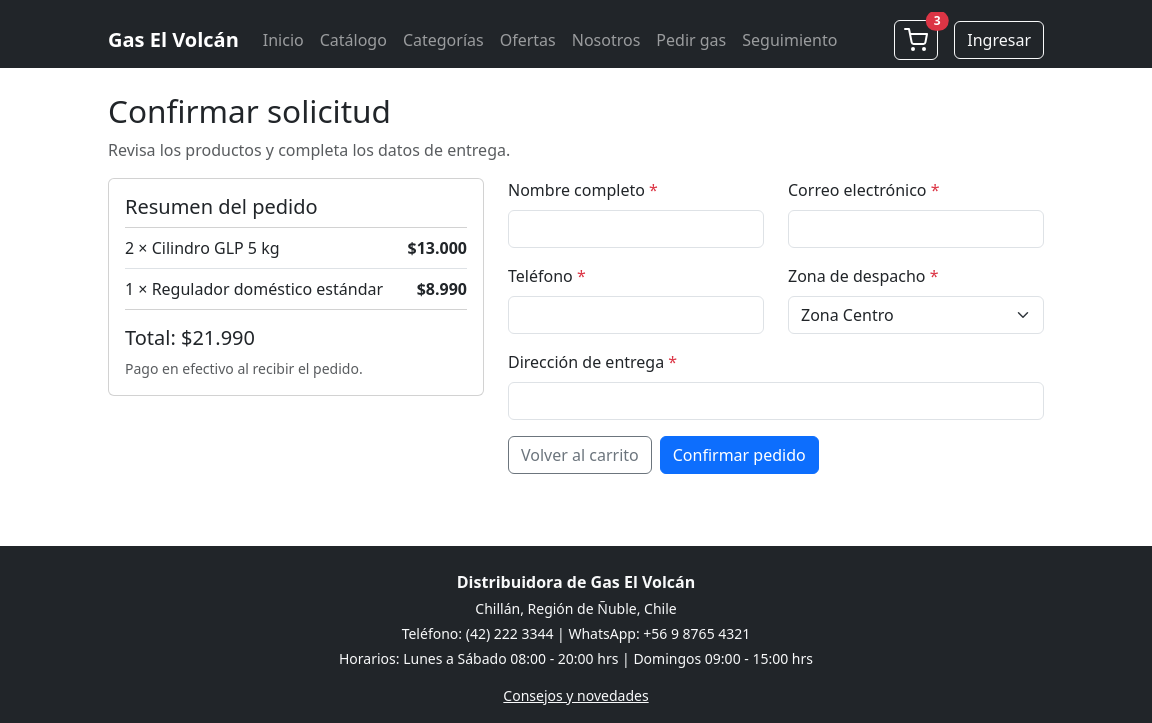
Test: Checkout › valida los datos de entrega y registra un pedido con el carrito completo
Click the button "Confirmar pedido" at [739, 455], box [660, 436, 819, 474]
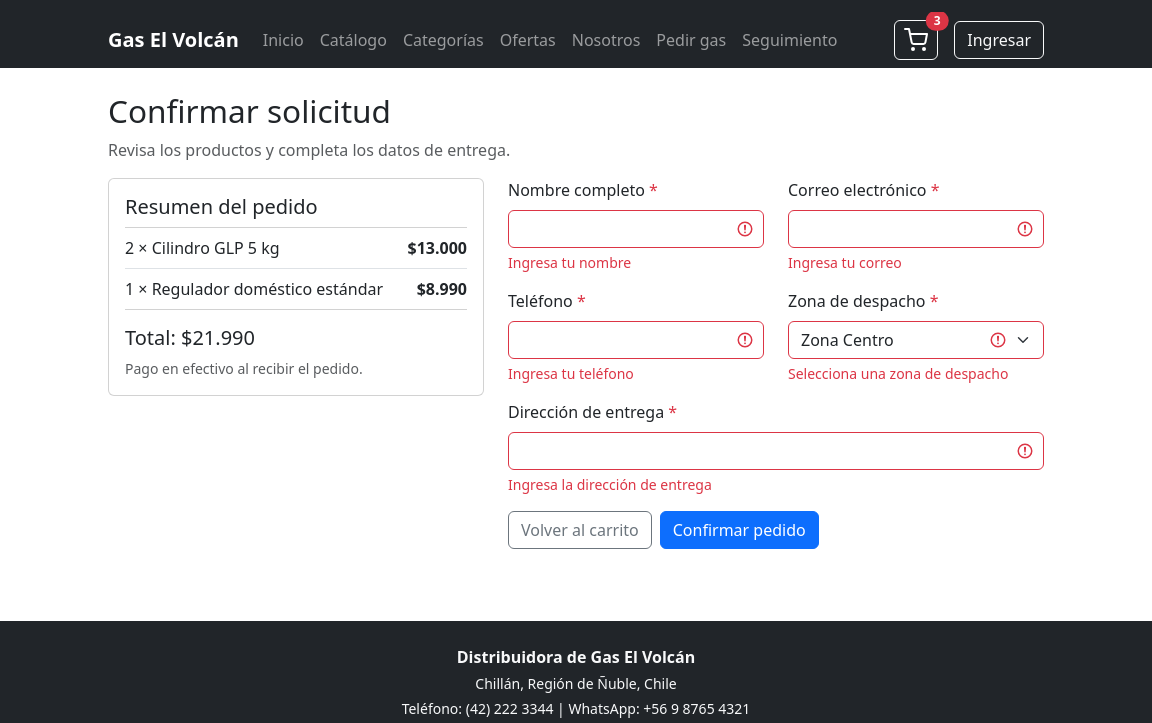
Expected: the text "Ingresa tu nombre" is shown, [508, 253, 631, 272]
Type "Ana Pérez" into the field labelled "Nombre completo *" at [636, 229], box [508, 210, 764, 248]
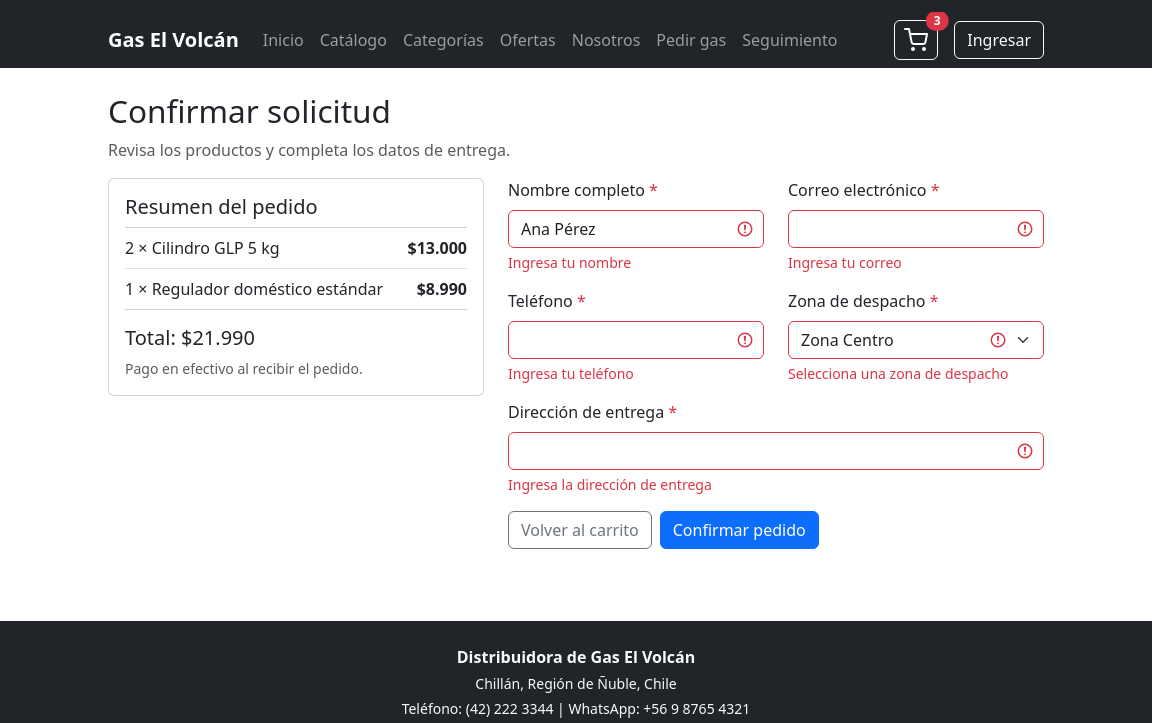
Type "ana@example.cl" into the field labelled "Correo electrónico *" at [916, 229], box [788, 210, 1044, 248]
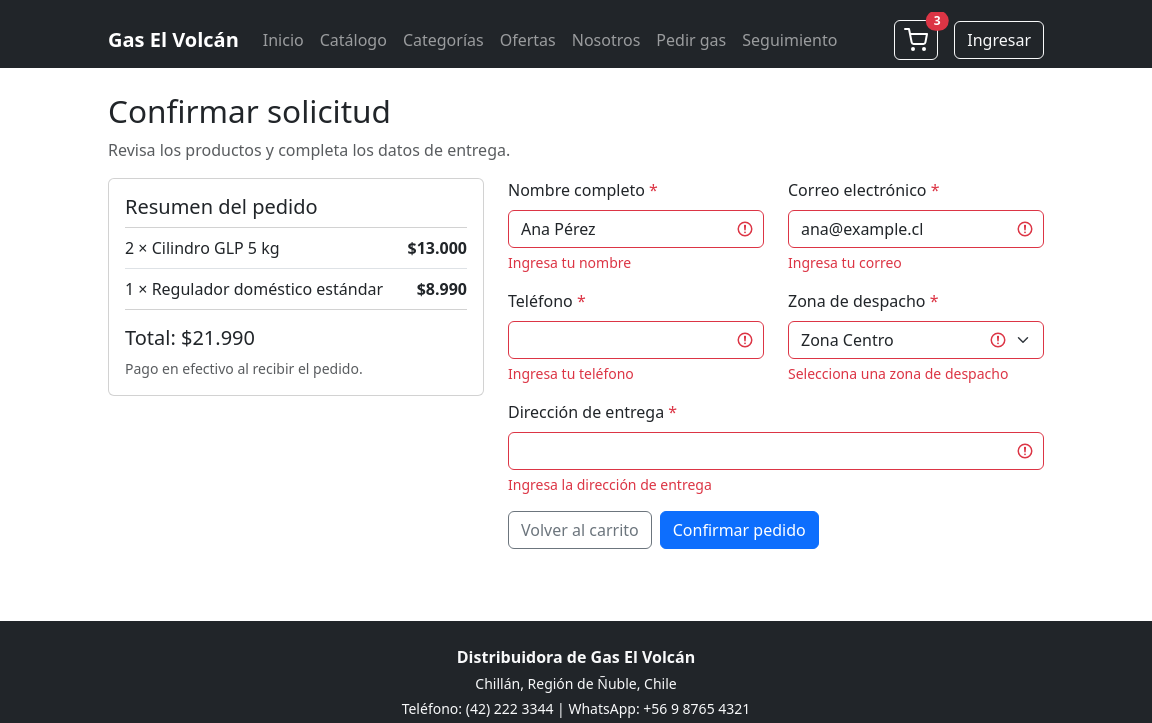
Type "+56912345678" into the field labelled "Teléfono *" at [636, 340], box [508, 321, 764, 359]
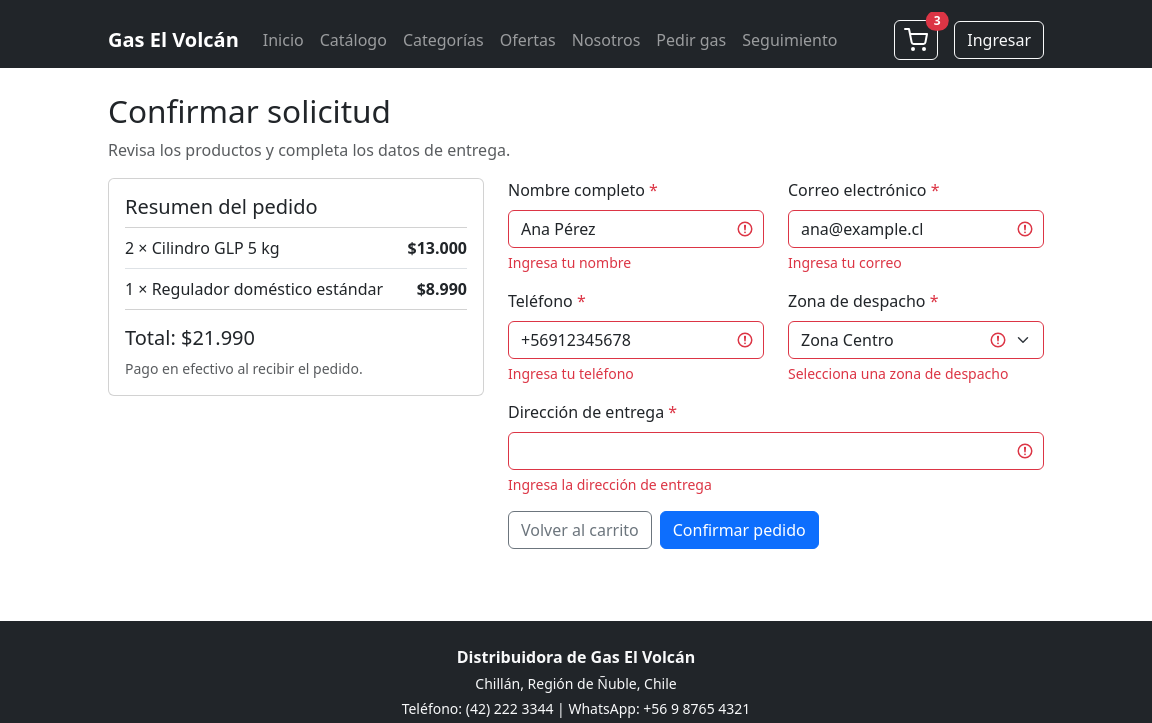
Select "Zona Centro" in the dropdown labelled "Zona de despacho *" at [916, 340], box [788, 321, 1044, 359]
Type "Av. Libertad 123, Chillán" into the field labelled "Dirección de entrega *" at [776, 451], box [508, 432, 1044, 470]
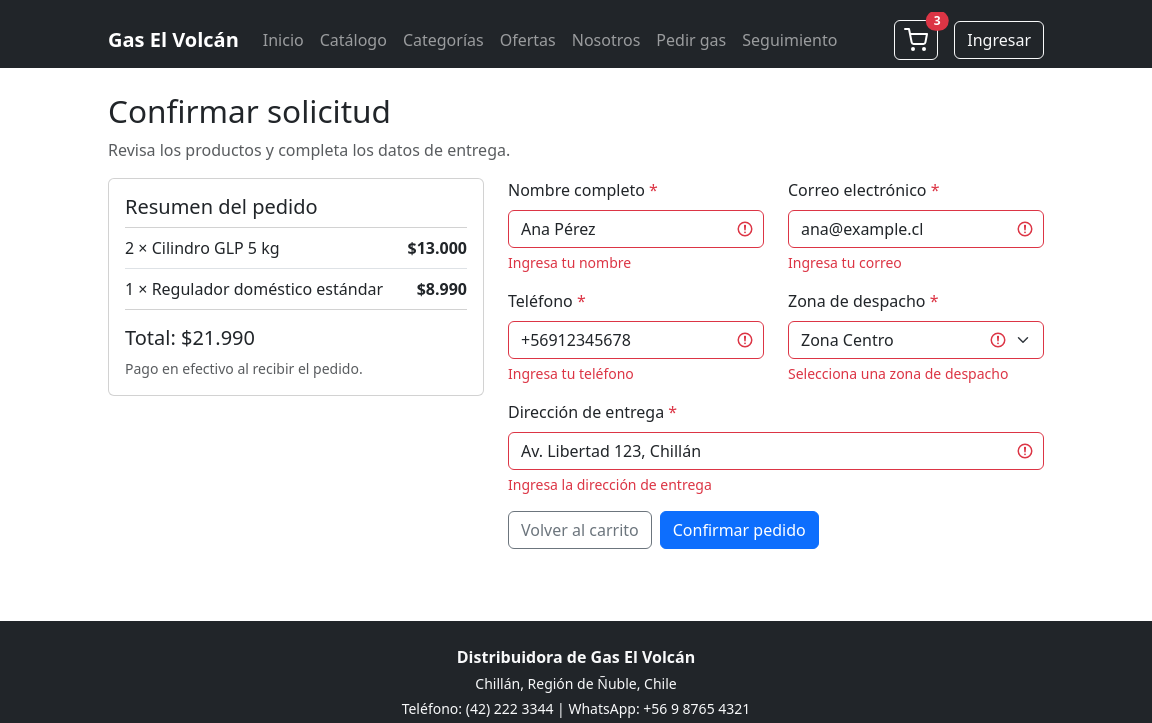
Click the button "Confirmar pedido" at [739, 530], box [660, 511, 819, 549]
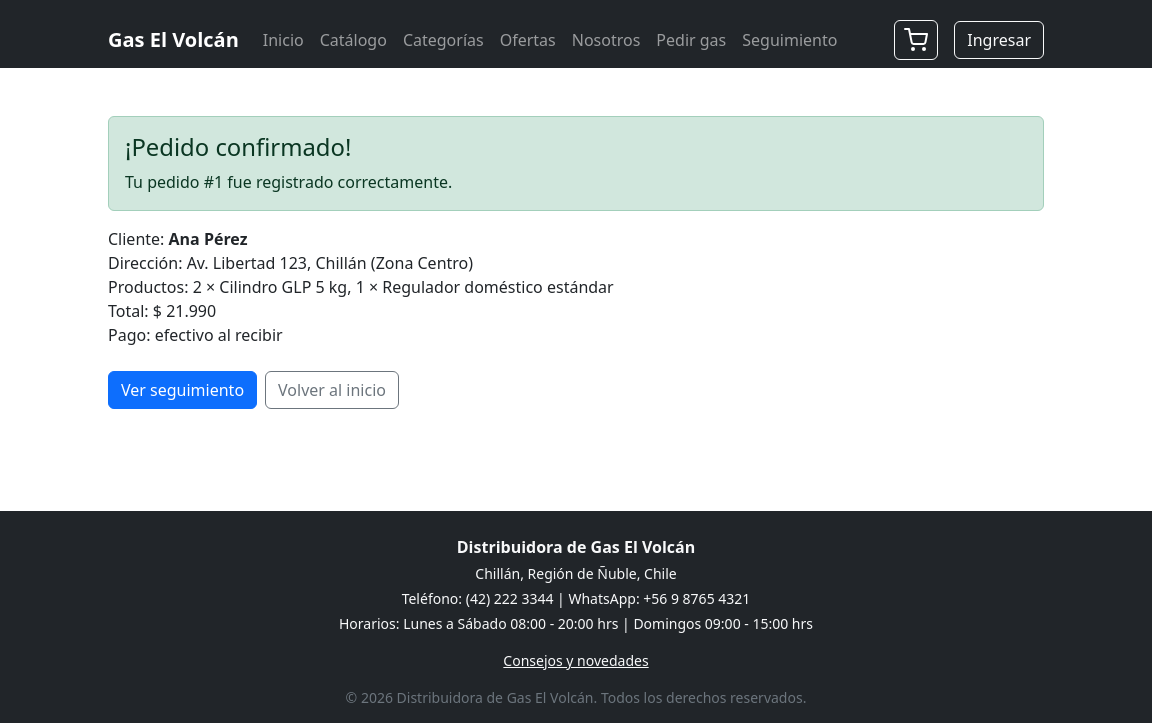
Expected: the heading "¡Pedido confirmado!" is shown, [125, 131, 351, 163]
Expected: the list item "2 × Cilindro GLP 5 kg, 1 × Regulador doméstico estándar" is shown, [193, 276, 614, 298]
Expected: the text "$ 21.990" is shown, [153, 300, 216, 322]
